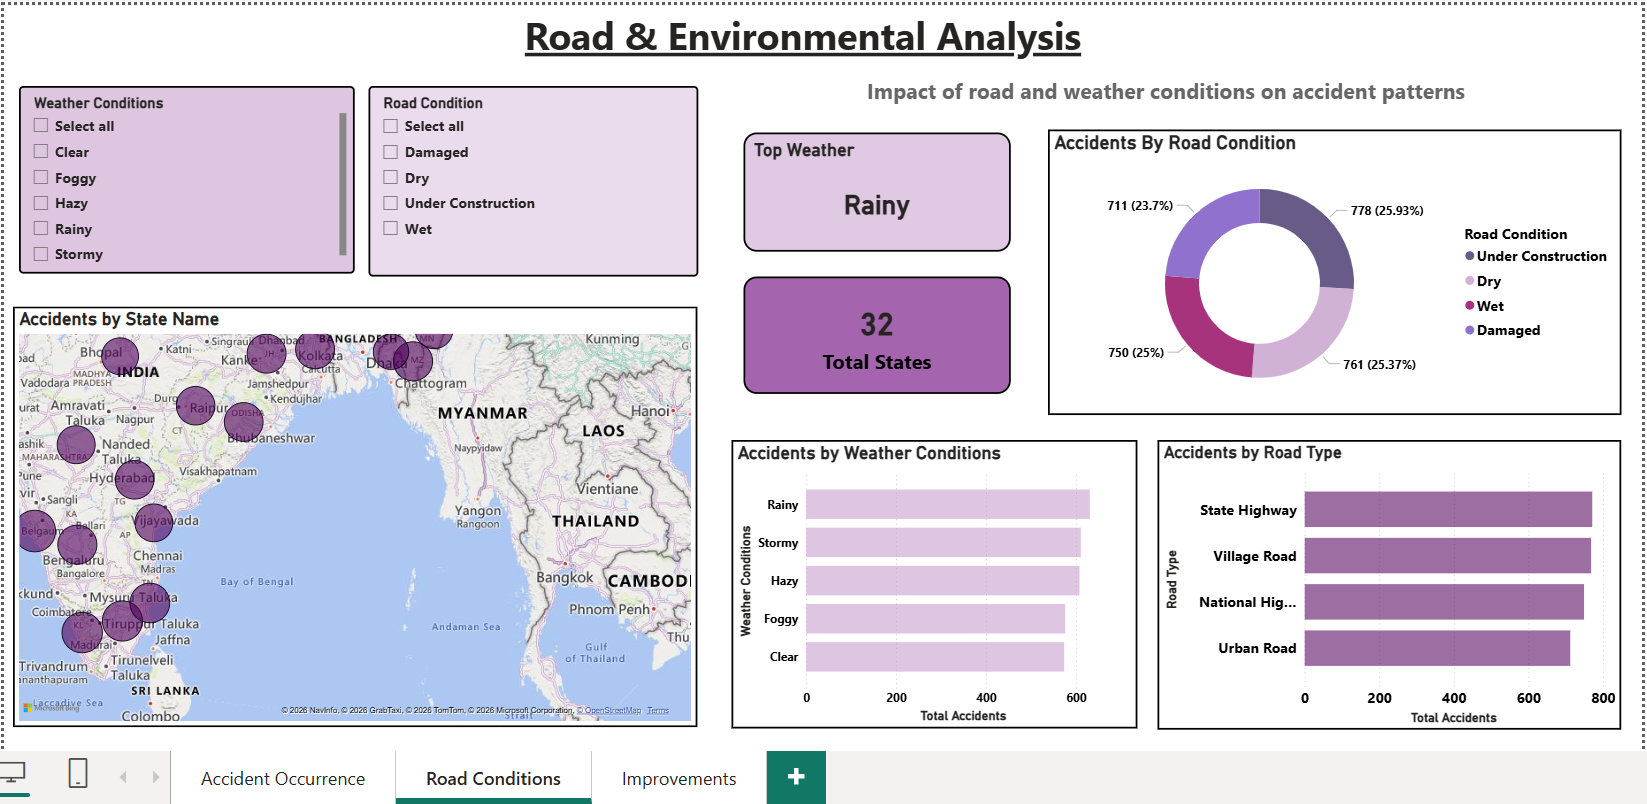

Layout of this report page (visuals, bound fields, positions):
{"tool":"powerbi","page":{"name":"Road Conditions","canvas":[1850,1800],"ordinal":1},"visuals":[{"type":"donutChart","title":"Accidents By Road Condition","fields":{"Category":["accident_prediction_india.Road Condition"],"Y":["accident_prediction_india.Total Accidents"]},"box":[1179.3,141.4,648.3,322.4],"z":0},{"type":"clusteredBarChart","title":" Accidents by Road Type","fields":{"Category":["accident_prediction_india.Road Type"],"Y":["accident_prediction_india.Total Accidents"]},"box":[1303.4,491.4,524.1,327.6],"z":1},{"type":"clusteredBarChart","title":"Accidents by Weather Conditions","fields":{"Category":["accident_prediction_india.Weather Conditions"],"Y":["accident_prediction_india.Total Accidents"]},"box":[822.4,491.4,458.6,325.9],"z":2},{"type":"map","title":"Accidents by State Name","fields":{"Category":["accident_prediction_india.State Name"],"Size":["accident_prediction_india.Total Accidents"]},"box":[10,340,773.3,475],"z":3},{"type":"slicer","fields":{"Values":["accident_prediction_india.Road Condition"]},"box":[412.1,91.4,372.4,215.5],"z":4},{"type":"slicer","fields":{"Values":["accident_prediction_india.Weather Conditions"]},"box":[17.2,91.4,379.3,212.1],"z":5},{"type":"textbox","box":[10,0,16,38],"z":6},{"type":"textbox","box":[583.3,0,658.3,73.3],"z":7},{"type":"card","title":"Top Weather","fields":{"Values":["accident_prediction_india.Top Weather"]},"box":[836.2,144.8,301.7,134.5],"z":8},{"type":"card","fields":{"Values":["accident_prediction_india.Total States"]},"box":[836.2,306.9,301.7,132.8],"z":9},{"type":"textbox","box":[798.3,74.1,1029.3,55.2],"z":10}]}

Visuals, with their boxes on the page's 1850x1800 design canvas (x1, y1, x2, y2). These are canvas units, not pixel positions in the 1647x804 screenshot, which may show the page scaled, cropped or inside an application window:
"Accidents By Road Condition" donutChart: {"x1": 1179, "y1": 141, "x2": 1828, "y2": 464}
" Accidents by Road Type" clusteredBarChart: {"x1": 1303, "y1": 491, "x2": 1828, "y2": 819}
"Accidents by Weather Conditions" clusteredBarChart: {"x1": 822, "y1": 491, "x2": 1281, "y2": 817}
"Accidents by State Name" map: {"x1": 10, "y1": 340, "x2": 783, "y2": 815}
slicer - accident_prediction_india.Road Condition: {"x1": 412, "y1": 91, "x2": 784, "y2": 307}
slicer - accident_prediction_india.Weather Conditions: {"x1": 17, "y1": 91, "x2": 396, "y2": 304}
textbox: {"x1": 10, "y1": 0, "x2": 26, "y2": 38}
textbox: {"x1": 583, "y1": 0, "x2": 1242, "y2": 73}
"Top Weather" card: {"x1": 836, "y1": 145, "x2": 1138, "y2": 279}
card - accident_prediction_india.Total States: {"x1": 836, "y1": 307, "x2": 1138, "y2": 440}
textbox: {"x1": 798, "y1": 74, "x2": 1828, "y2": 129}
